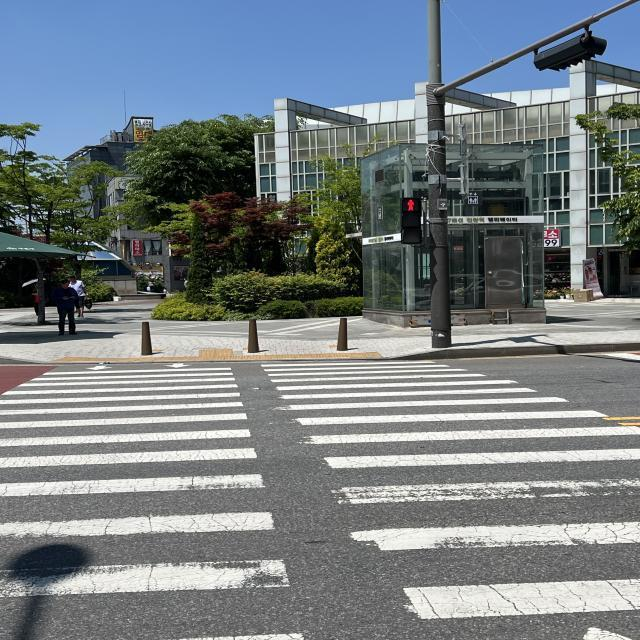crosswalk: (0, 346, 640, 640)
red-crossing: (396, 197, 426, 244)
